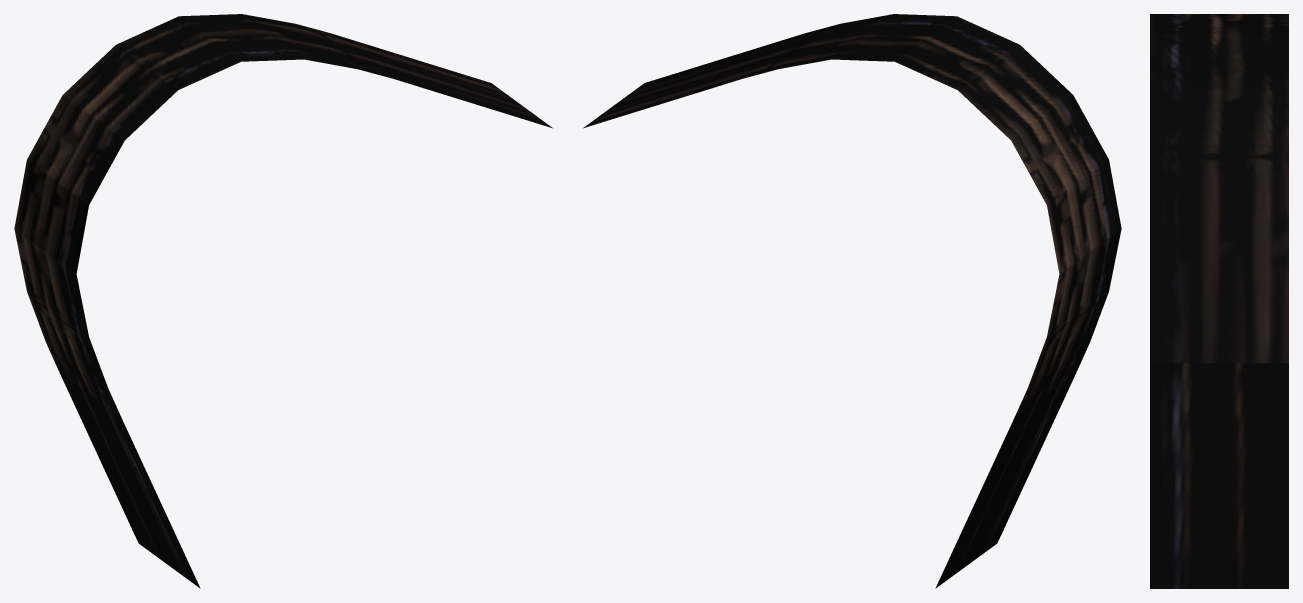
The model's file is collide_ColumnCorner1.obj.
3 views of the same model, side by side, from view 1: azimuth 30°, elevation 25°; view 2: azimuth 150°, elevation 25°; view 3: azimuth 270°, elevation 25° (orthographic). The views are drawn at different scales.
Parts seen in each view (by area): view 1: collide_ColumnCorner1; view 2: collide_ColumnCorner1; view 3: collide_ColumnCorner1.
Boxes of the visible parts, <box> form: collide_ColumnCorner1: <box>14,14,552,588</box>; collide_ColumnCorner1: <box>583,14,1121,588</box>; collide_ColumnCorner1: <box>1150,14,1288,588</box>.
Size of the model in its own units: 197 by 204 by 44.53.
